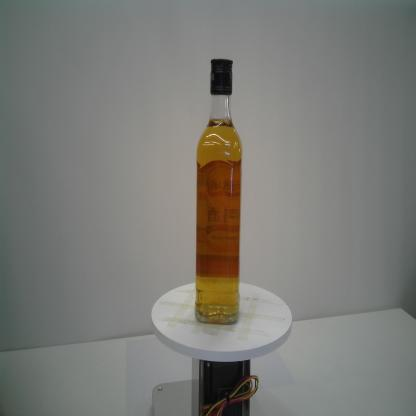Seasoner: (192, 56, 244, 328)
